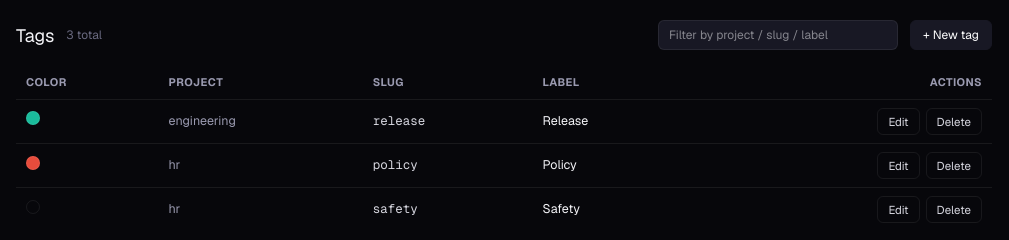
Scenario: TagsList › shows no-match state when filter excludes everything
Expected: the row with test id "admin-tag-row-1" is shown, [16,99,992,143]
Type "absolutely-nothing-matches-this" into the field with test id "admin-tags-filter" at (778, 35), box [658,20,898,50]
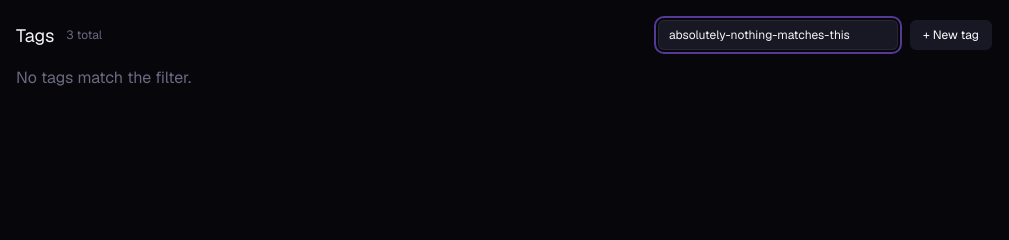
Now the text "No tags match the filter." is shown, box [16,67,191,88]
